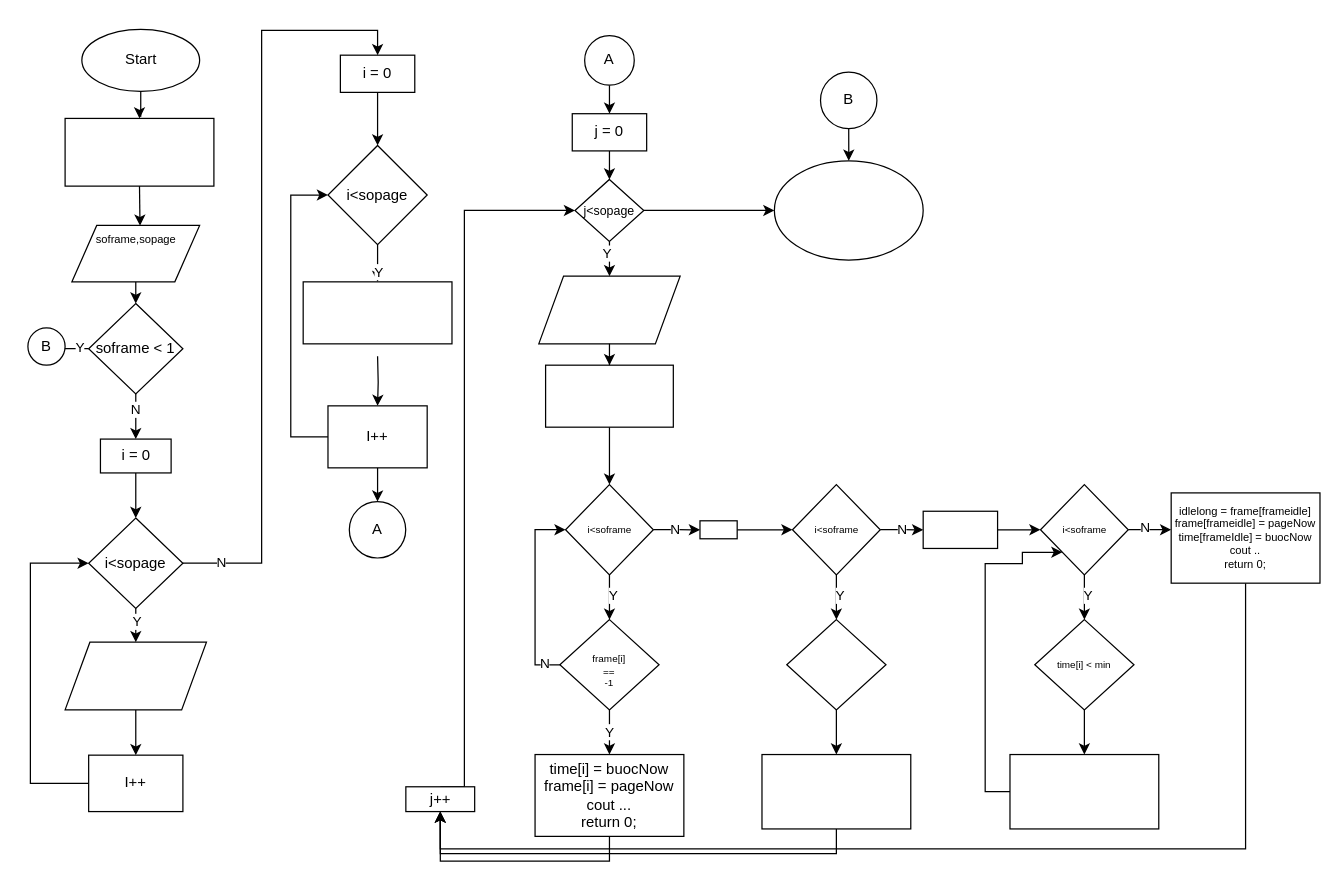
This 1342x893 diagram has some shape labels left out. Here are the shapes that lost their labels. From the top down, the centre of each, then its label:
At (139,151): "soframe,sopage,i buocNow vector: frame,page,time".
At (848,210): "END".
At (377,312): "cout page[i]".
At (609,309): "$frame, $time soframe, buocNow".
At (608,395): "i = 0,pageNow = page[buocNow],frameIdle Idlelong".
At (718,529): "i=0".
At (960,529): "i=0 min = time[0]".
At (135,675): "page[i]".
At (836,664): "pageNow == frame[i]".
At (836,791): "time[i] = buocNow cout ... return 0;".
At (1084,791): "min = time[i] frameIdle = i".
